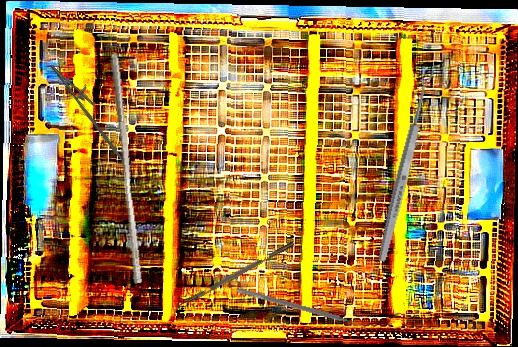Chopper: (169, 241, 298, 317)
Needle Holder: (38, 57, 149, 170)
Pusher: (101, 52, 150, 285)
Spatula Surgical: (234, 287, 366, 332)
Surgical Spoon: (375, 67, 436, 263)
